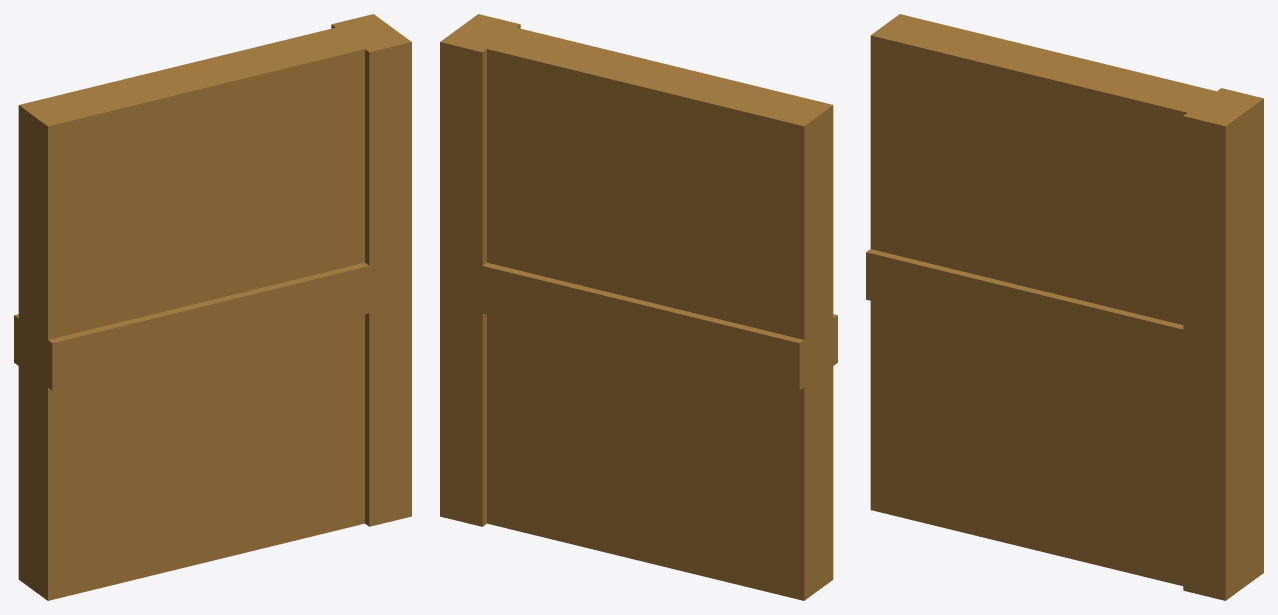
File: u2_door_L_asset.fbx
3 renders of one model, left to right at view 1: azimuth 30°, elevation 25°; view 2: azimuth 150°, elevation 25°; view 3: azimuth 330°, elevation 25°, orthographic.
Visible parts, largest first — view 1: pasted__pasted__pCube296; view 2: pasted__pasted__pCube296; view 3: pasted__pasted__pCube296.
Part boxes in pixels (box(x1,y1,x2,y2)): pasted__pasted__pCube296: box(14, 14, 411, 600); pasted__pasted__pCube296: box(440, 14, 837, 600); pasted__pasted__pCube296: box(866, 14, 1263, 600).
Bounding box in the file's own units: 2.92 × 3.68 × 0.5373.
